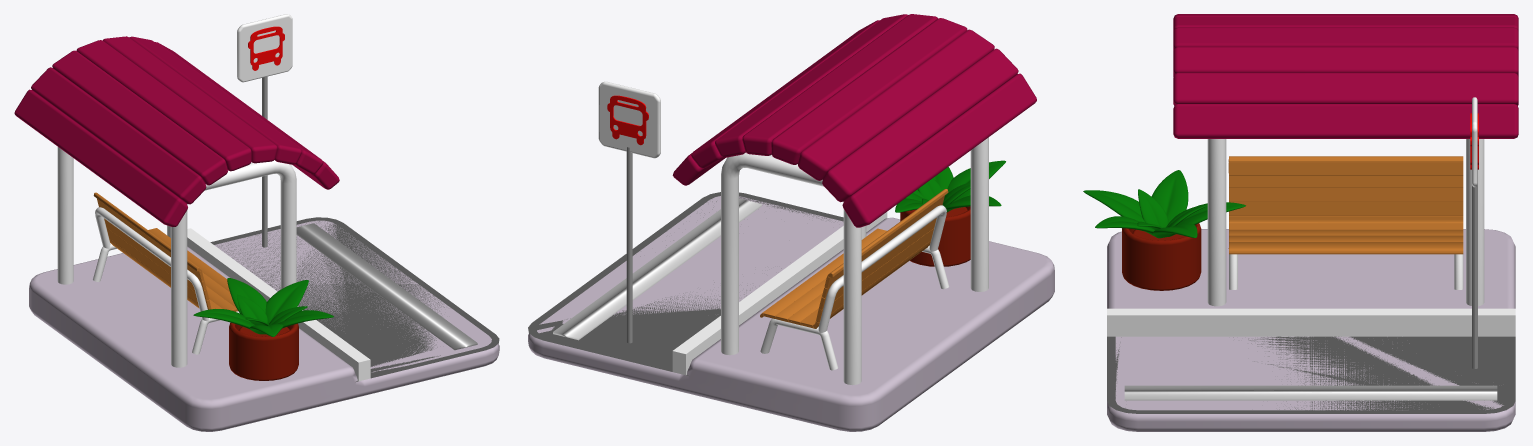
File: bus-stop (2).fbx
The picture shows the model from 3 angles, left to right: view 1: azimuth 30°, elevation 25°; view 2: azimuth 150°, elevation 25°; view 3: azimuth 270°, elevation 25°; orthographic projection. The views are drawn at different scales.
Visible parts, largest first — view 1: Plane, Cylinder, Plane.001, Vert, Plane.013, Plane.002, Circle, Plane.003, Plane.004, Vert.001, Plane.009, Curve (+5 smaller); view 2: Plane, Cylinder, Vert, Plane.001, Plane.002, Plane.013, Plane.003, Vert.001, Plane.004, Circle, Vert.002, Curve (+1 smaller); view 3: Cylinder, Plane, Plane.002, Plane.001, Plane.003, Plane.013, Vert, Circle, Plane.006, Vert.002, Plane.007, Plane.011 (+5 smaller).
Boxes of the visible parts, x1=… form: Plane: x1=29, y1=220, x2=499, y2=431; Cylinder: x1=14, y1=36, x2=339, y2=226; Plane.001: x1=210, y1=217, x2=499, y2=382; Vert: x1=57, y1=147, x2=296, y2=367; Plane.013: x1=296, y1=223, x2=477, y2=350; Plane.002: x1=93, y1=192, x2=238, y2=311; Circle: x1=229, y1=322, x2=298, y2=380; Plane.003: x1=187, y1=228, x2=370, y2=381; Plane.004: x1=237, y1=14, x2=292, y2=82; Vert.001: x1=93, y1=207, x2=239, y2=354; Plane.009: x1=265, y1=280, x2=308, y2=323; Curve: x1=248, y1=26, x2=284, y2=70; Plane: x1=528, y1=196, x2=1054, y2=431; Cylinder: x1=672, y1=14, x2=1036, y2=227; Vert: x1=721, y1=137, x2=988, y2=385; Plane.001: x1=528, y1=192, x2=843, y2=376; Plane.002: x1=760, y1=189, x2=948, y2=328; Plane.013: x1=553, y1=198, x2=761, y2=340; Plane.003: x1=672, y1=212, x2=887, y2=375; Vert.001: x1=760, y1=205, x2=949, y2=370; Plane.004: x1=598, y1=81, x2=660, y2=158; Circle: x1=900, y1=206, x2=970, y2=266; Vert.002: x1=626, y1=147, x2=632, y2=343; Curve: x1=607, y1=95, x2=648, y2=145; Cylinder: x1=1173, y1=14, x2=1518, y2=138; Plane: x1=1107, y1=229, x2=1515, y2=431; Plane.002: x1=1228, y1=156, x2=1463, y2=254; Plane.001: x1=1107, y1=336, x2=1515, y2=413; Plane.003: x1=1107, y1=308, x2=1515, y2=336; Plane.013: x1=1124, y1=385, x2=1497, y2=400; Vert: x1=1207, y1=139, x2=1484, y2=306; Circle: x1=1122, y1=223, x2=1201, y2=290; Plane.006: x1=1151, y1=170, x2=1188, y2=223; Vert.002: x1=1472, y1=170, x2=1477, y2=368; Plane.007: x1=1083, y1=190, x2=1147, y2=232; Plane.011: x1=1138, y1=189, x2=1168, y2=227.
Bounding box in the file's own units: 406 × 305 × 426.
